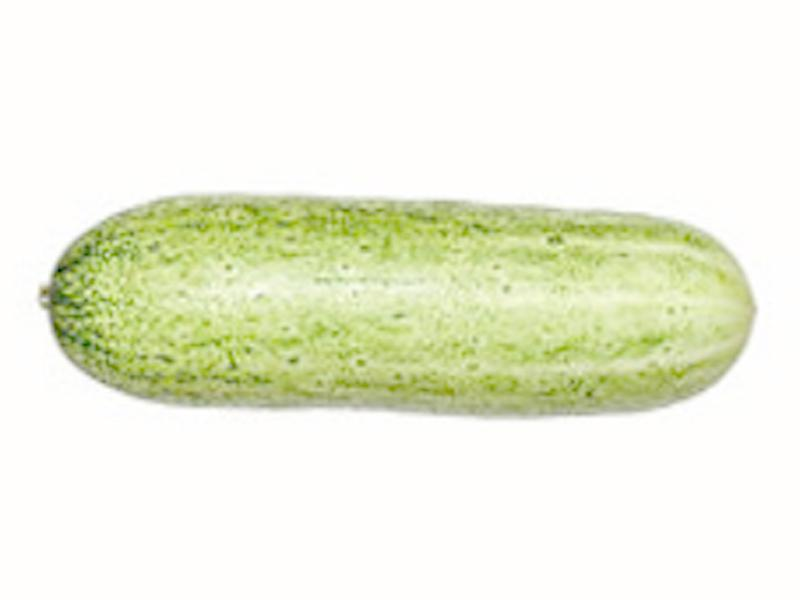Cucumber: (38, 196, 757, 412)
